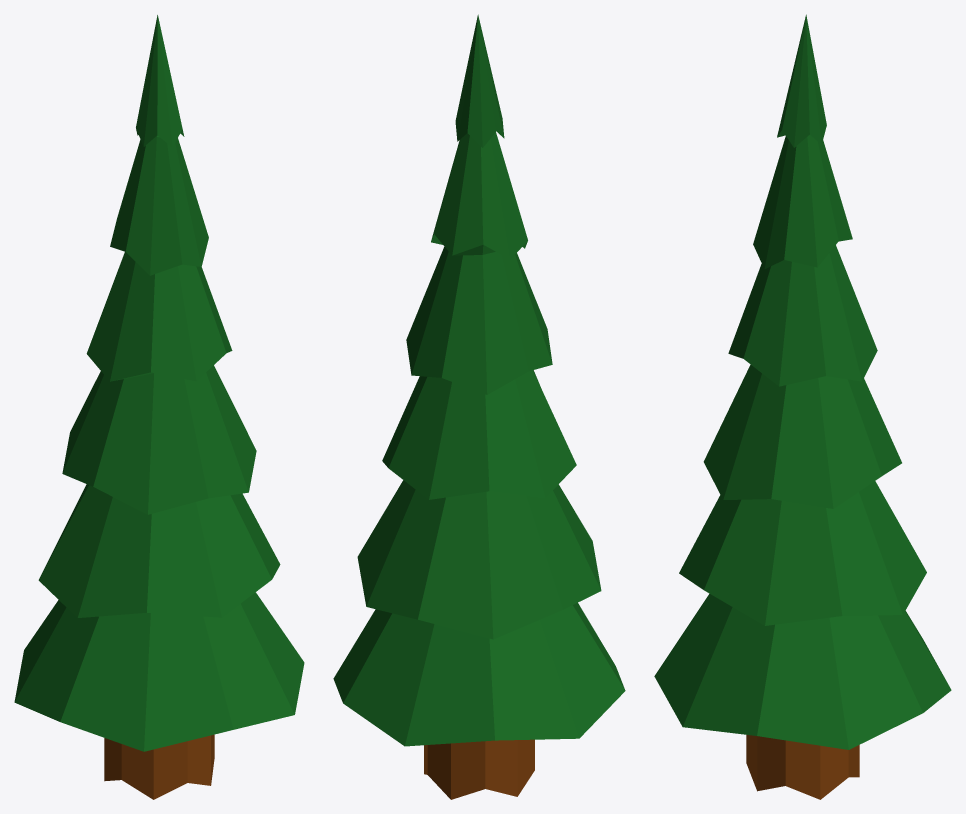
Rendered from Baum.fbx.
3 renders of one model, left to right at view 1: azimuth 30°, elevation 25°; view 2: azimuth 150°, elevation 25°; view 3: azimuth 270°, elevation 25°, orthographic.
Parts seen in each view (by area): view 1: Tannenbaum; view 2: Tannenbaum; view 3: Tannenbaum.
Part boxes in pixels (<box>): Tannenbaum: <box>14,15,304,799</box>; Tannenbaum: <box>333,14,625,799</box>; Tannenbaum: <box>654,14,951,799</box>.
Bounding box in the file's own units: 188 × 179 × 532.
